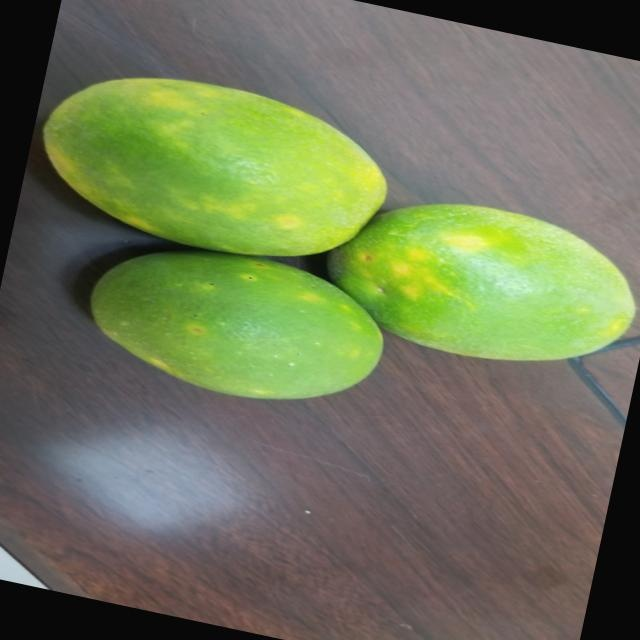agrume: (31, 53, 401, 276), (53, 221, 391, 450), (318, 170, 640, 398)
